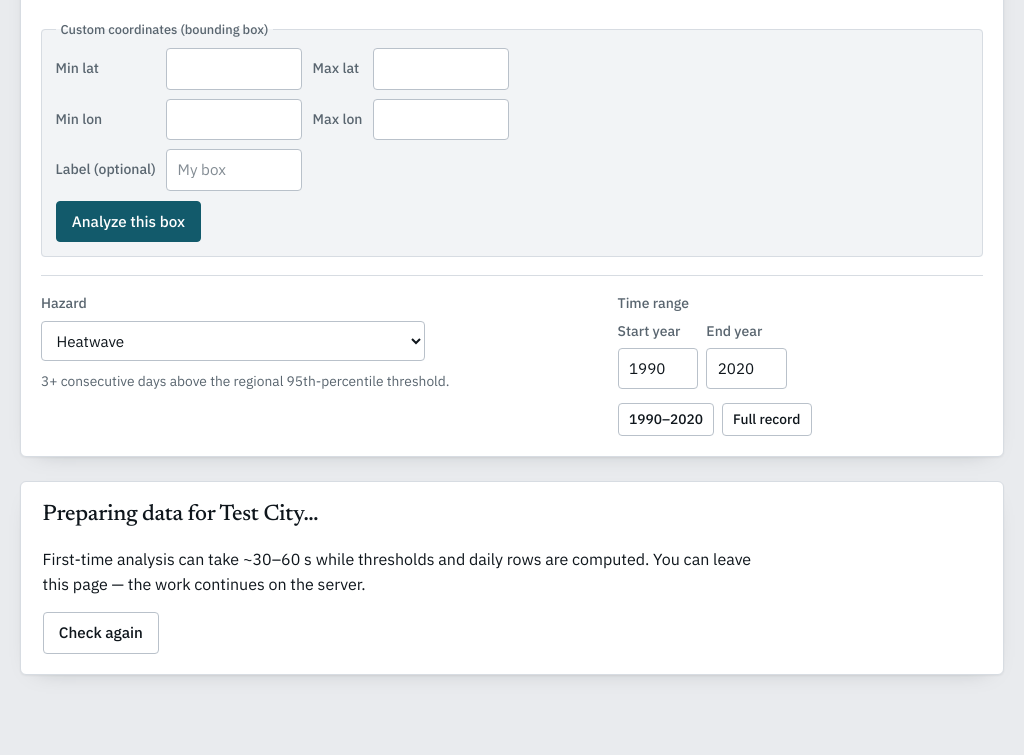
Test: preparing card while the backfill runs (CF-02 step 5) › clears the preparing card the moment the region turns ready
(page scrolled)
Check: the message with test id "preparing-card" is shown, box [20,481,1004,675]
Click the button "Check again": point(101, 633) [43,612,159,654]
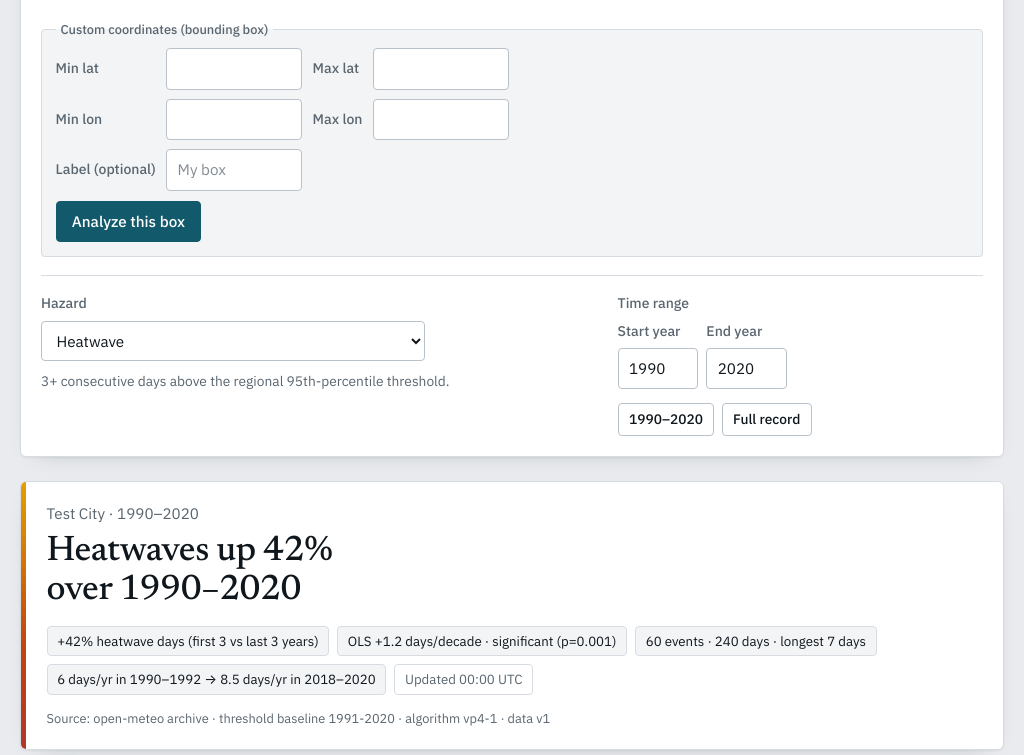
Check: the element with test id "summary-card" is shown, box [20,481,1004,750]
Check: the message with test id "preparing-card" is gone
